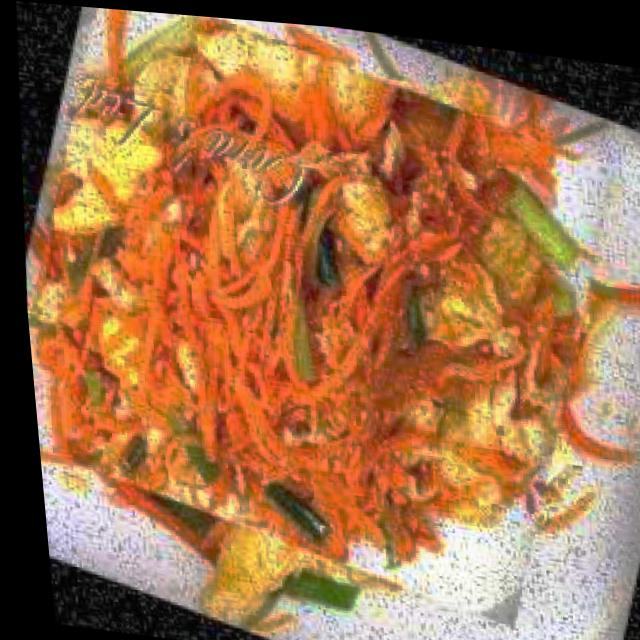carrot_eggs: (0, 0, 640, 618)
